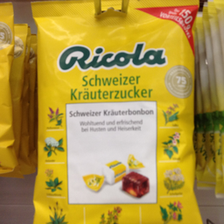candy: (37, 2, 198, 224)
